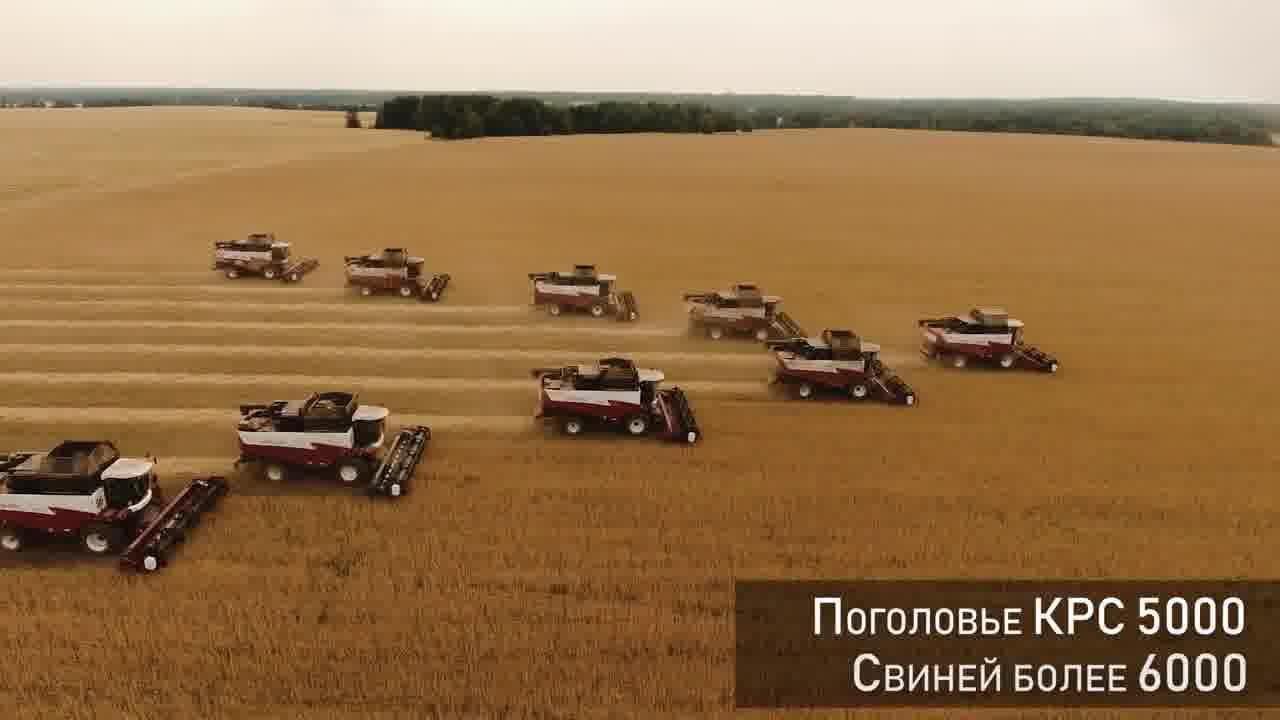combine harvester: (1, 434, 233, 577), (229, 385, 434, 503), (526, 351, 702, 447), (761, 326, 917, 410), (914, 301, 1062, 377), (683, 278, 806, 344), (523, 262, 643, 326), (342, 243, 454, 304), (210, 228, 321, 288)
